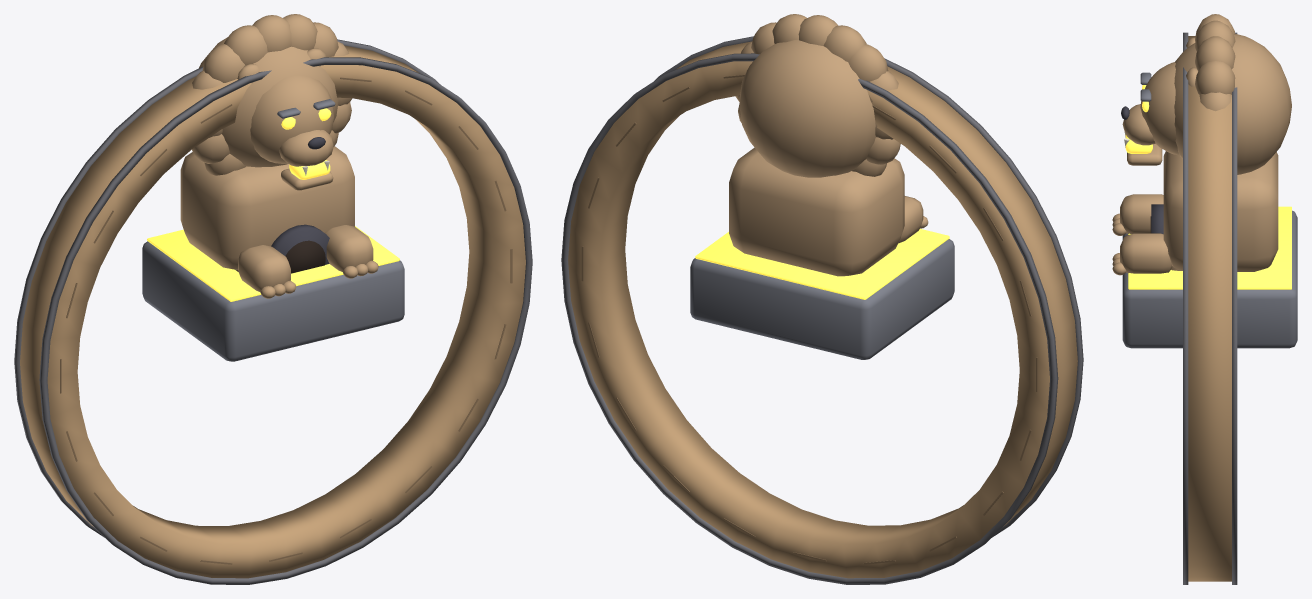
File: hazards.glb
The picture shows the model from 3 angles, left to right: view 1: azimuth 30°, elevation 25°; view 2: azimuth 150°, elevation 25°; view 3: azimuth 270°, elevation 25°; orthographic projection. The views are drawn at different scales.
Parts seen in each view (by area): view 1: HZ_PipeRing, HZ_Statue, HZ_Cannon; view 2: HZ_PipeRing, HZ_Statue; view 3: HZ_Statue, HZ_PipeRing, HZ_Cannon.
Boxes of the visible parts, x1,y1,x2,y2 form: HZ_PipeRing: (14, 39, 532, 584); HZ_Statue: (142, 14, 404, 361); HZ_Cannon: (271, 224, 329, 273); HZ_PipeRing: (561, 36, 1083, 584); HZ_Statue: (690, 14, 954, 359); HZ_Statue: (1112, 14, 1297, 348); HZ_PipeRing: (1183, 32, 1237, 584); HZ_Cannon: (1150, 204, 1163, 233).
Size of the model in its own units: 20.24 by 21.67 by 6.78.
